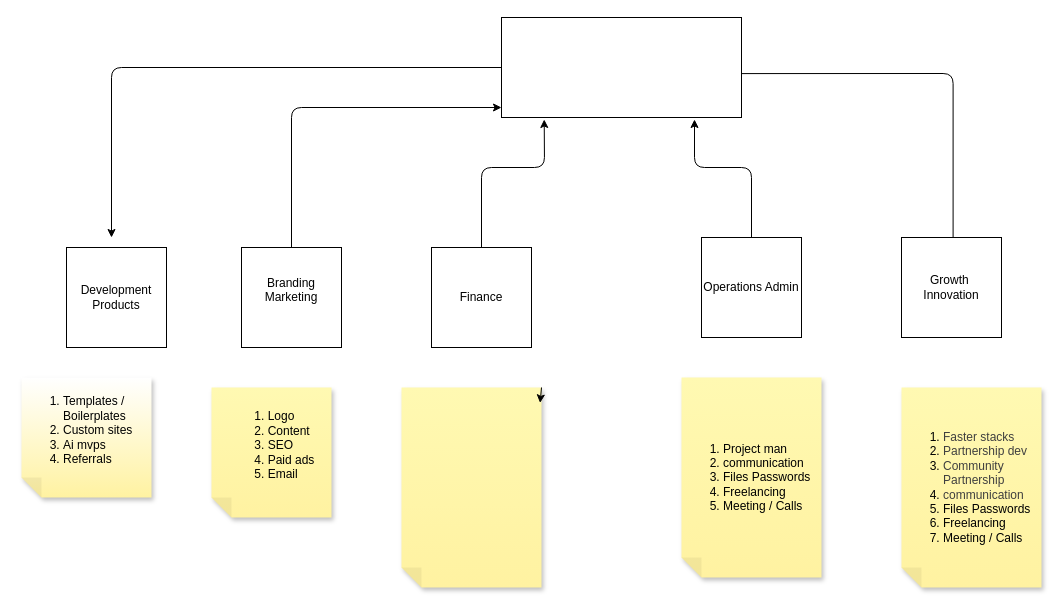
The diagram is 1064 pixels wide and 612 high, and some of its shapes have lost their labels. Here are the shapes that lost their labels. From the top down, the centre of each, then its label:
At point 621,67: "Software Agency".
At point 472,488: "Paystack Momo Bank acc Contracts Tracking profit Package pricing".
